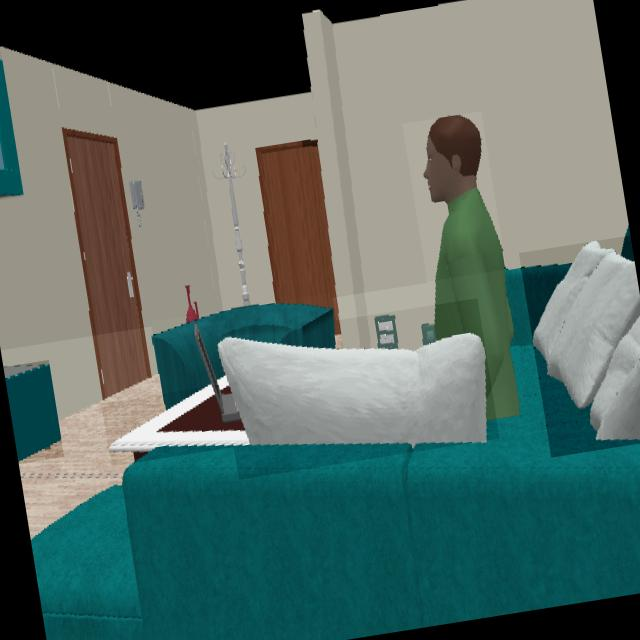cabinet: (4, 364, 62, 464), (0, 62, 24, 199)
laptop: (195, 325, 241, 423)
person: (424, 118, 520, 420)
pillow: (218, 334, 488, 446), (534, 242, 640, 442)
sofa: (31, 265, 640, 640), (153, 303, 337, 410)
table: (109, 387, 249, 456)
